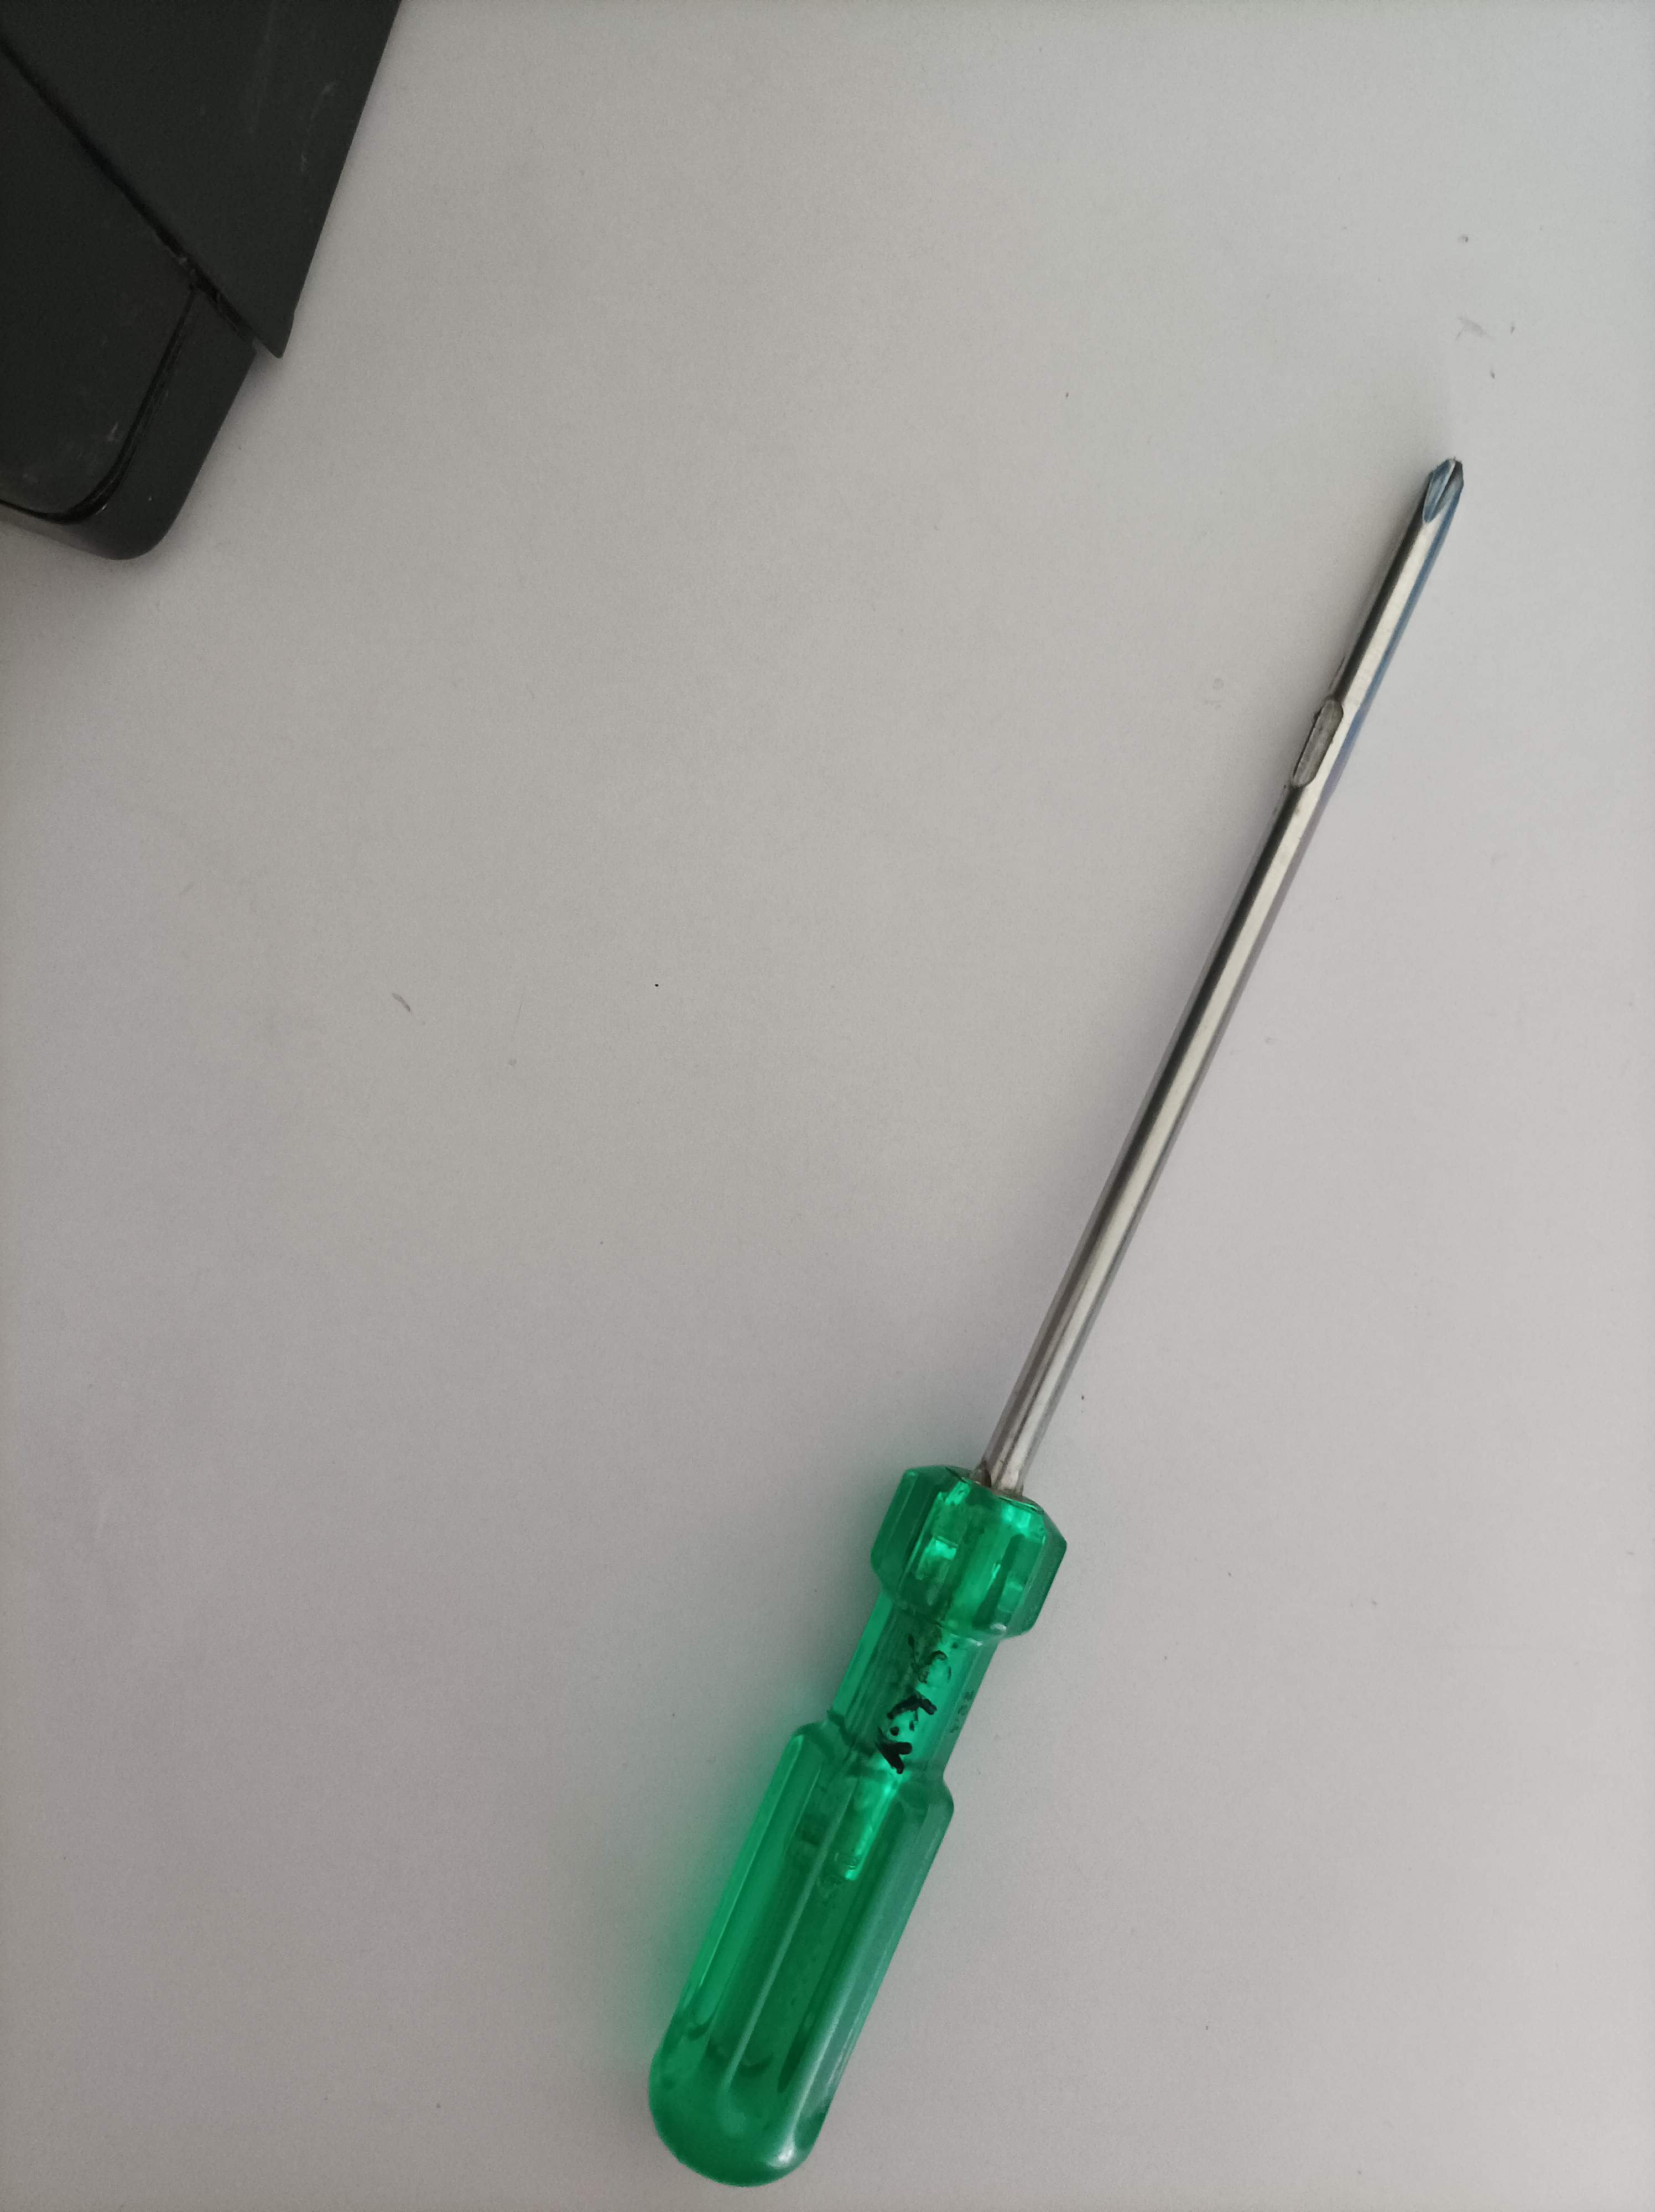screwdriver: (631, 445, 1481, 2198)
